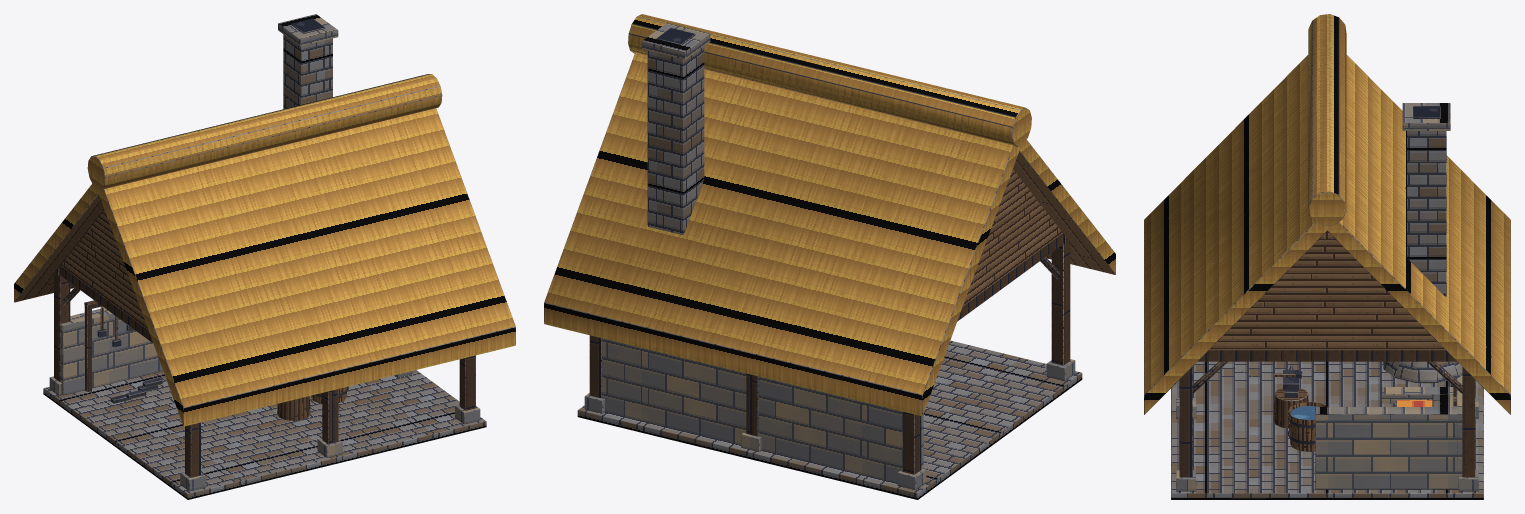
Rendered from smithy_0.glb.
3 views of the same model, side by side, from view 1: azimuth 30°, elevation 25°; view 2: azimuth 150°, elevation 25°; view 3: azimuth 270°, elevation 25° (orthographic). The views are drawn at different scales.
Parts seen in each view (by area): view 1: smithy_1; view 2: smithy_1; view 3: smithy_1.
Boxes of the visible parts, x1,y1,x2,y2 form: smithy_1: (14, 14, 515, 499); smithy_1: (544, 14, 1115, 499); smithy_1: (1144, 14, 1510, 499).
Size of the model in its own units: 7 by 6.54 by 6.1.
Materials: 12 (12 with a texture image).
